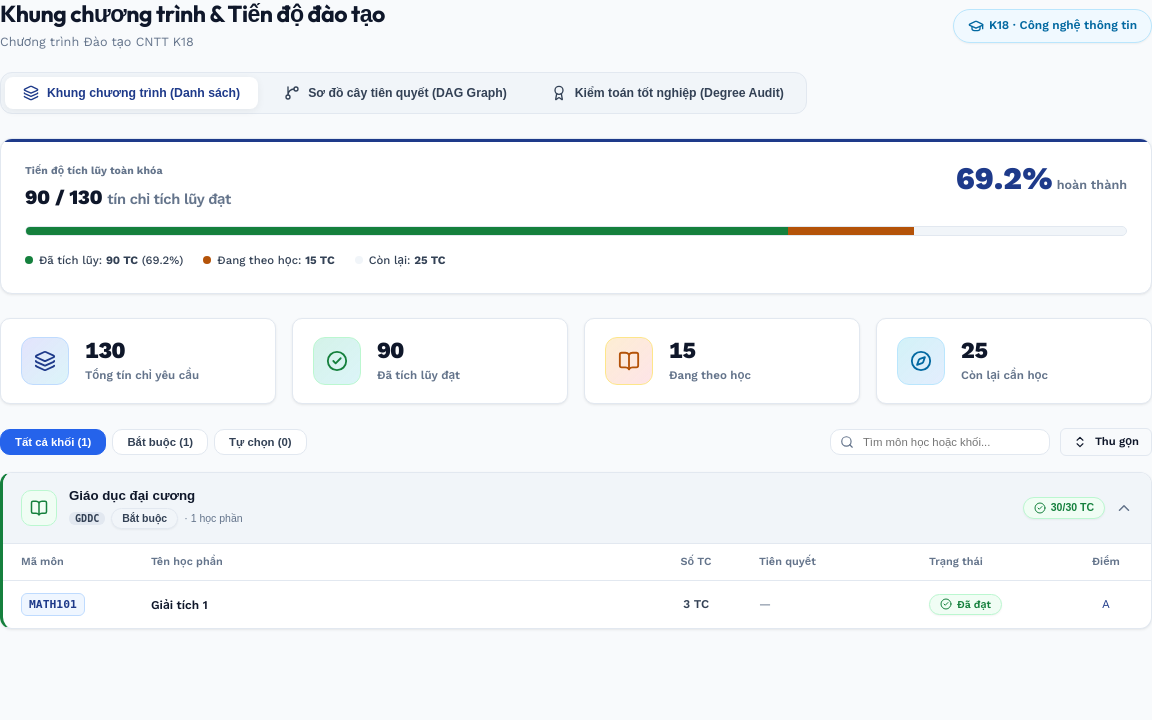
Test: CurriculumRoadmapPage Component › switches to Degree Audit tab and displays Best-Grade optimization metrics
Expected: the text "Chương trình Đào tạo CNTT K18" is shown, [0,34,194,49]
What coordinates should you click on to do the following:
click the button "Kiểm toán tốt nghiệp (Degree Audit)"
I would click on:
 (667, 93)
Its box is [533,77,802,109].
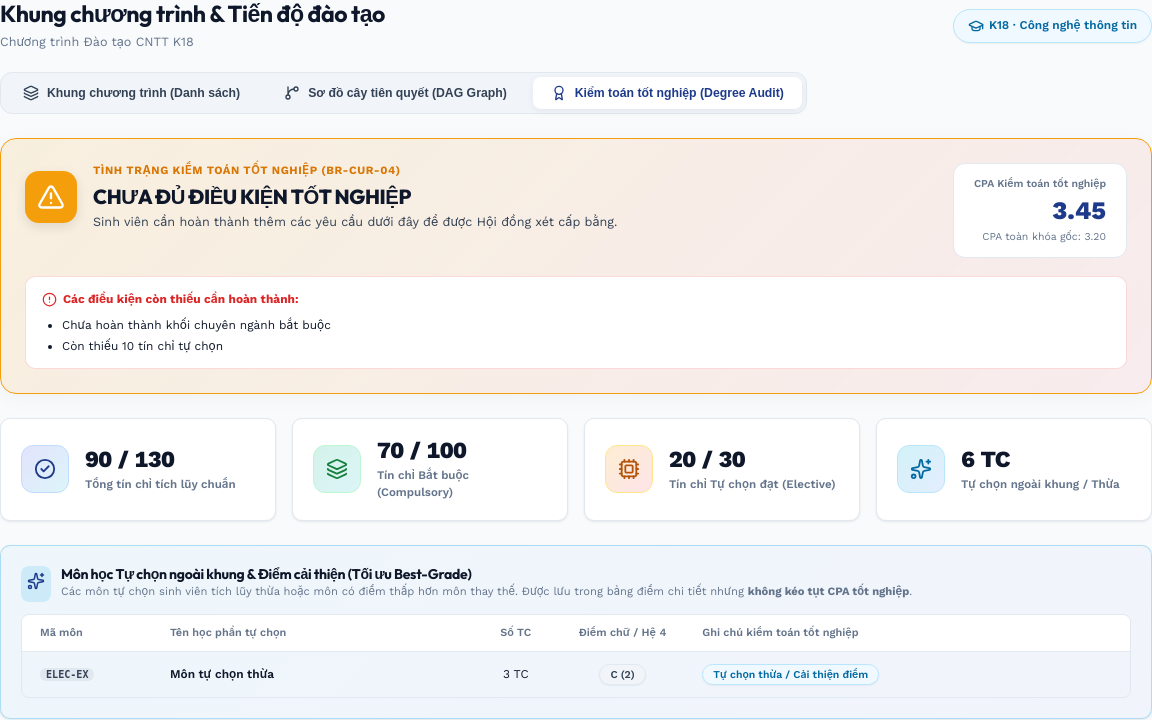
Now the heading "CHƯA ĐỦ ĐIỀU KIỆN TỐT NGHIỆP" is shown, box [93,184,411,208]
Now the text "3.45" is shown, box [1052,196,1106,224]
Now the list item "Chưa hoàn thành khối chuyên ngành bắt buộc" is shown, box [62,318,331,332]
